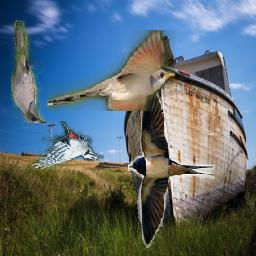Cuckoo: (47, 31, 175, 112), (12, 21, 47, 124)
Swallow: (129, 72, 216, 248)
Woodpecker: (30, 121, 105, 169)
